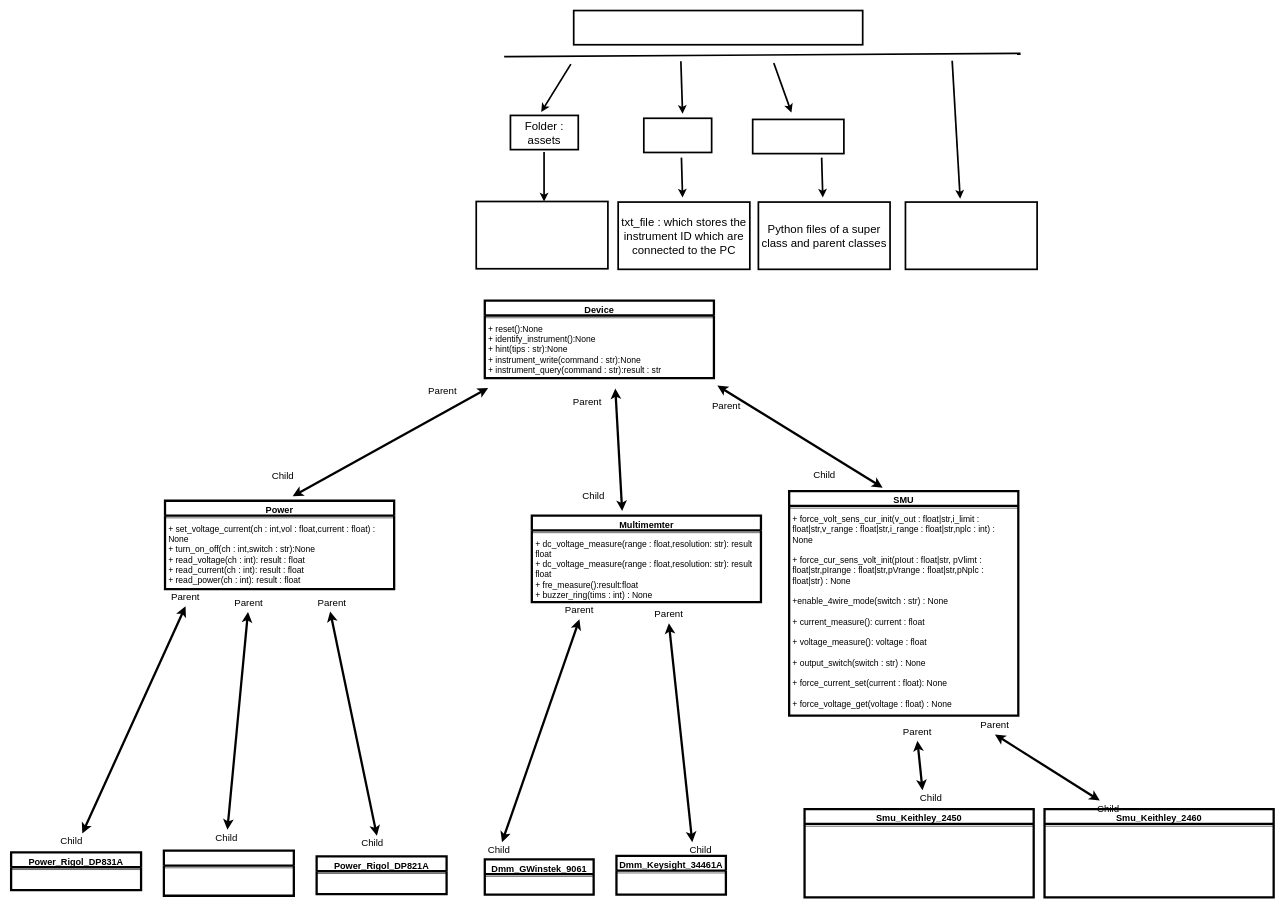
The diagram is 1284 pixels wide and 909 high, and some of its shapes have lost their labels. Here are the shapes that lost their labels. From the top down, the centre of each, then its label:
At (718,27): "instrument_drivers".
At (677,135): "Folder : files".
At (798,136): "Folder : Parent_Classes".
At (541,234): "Some_Resources : Like images,or Markdown files".
At (971,235): "Python files of child classes".
At (228,873): "Power_GWinstek_6030".
